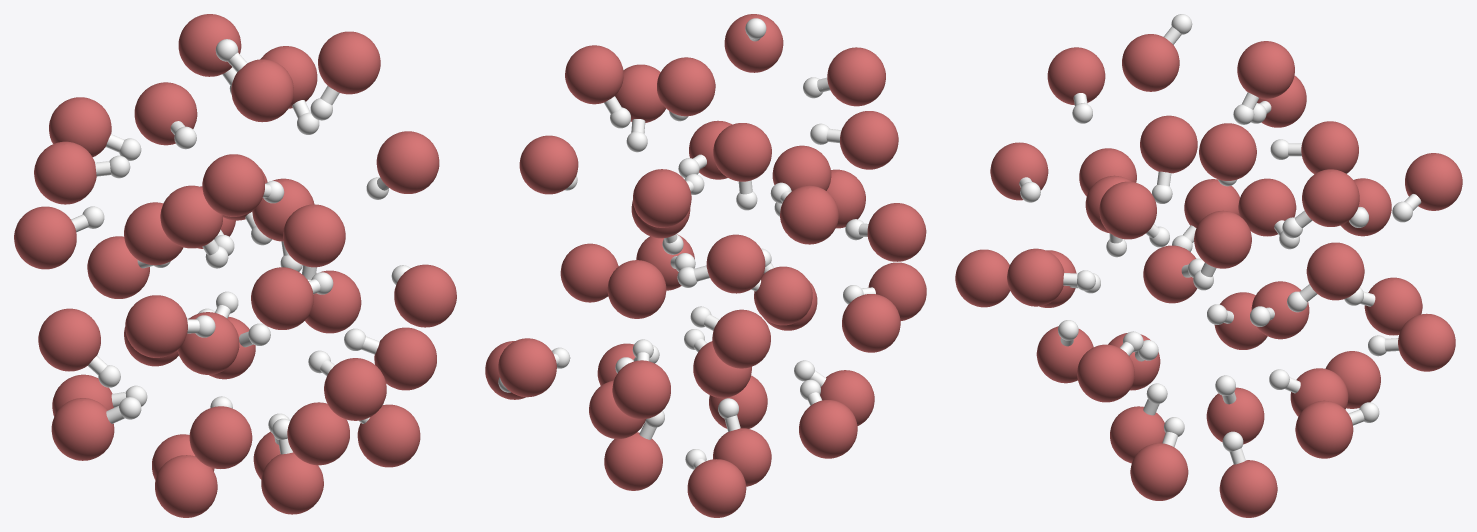
The model's file is brominelatt.glb.
The picture shows the model from 3 angles, left to right: view 1: azimuth 30°, elevation 25°; view 2: azimuth 150°, elevation 25°; view 3: azimuth 270°, elevation 25°; orthographic projection. The views are drawn at different scales.
Visible parts, largest first — view 1: Bromine_ball (×34); view 2: Bromine_ball (×35); view 3: Bromine_ball (×36).
Part boxes in pixels (left/top/right/bottom): Bromine_ball (×34): left=14, top=14, right=456, bottom=517; Bromine_ball (×35): left=485, top=14, right=926, bottom=517; Bromine_ball (×36): left=955, top=34, right=1462, bottom=517.
Size of the model in its own units: 2.67 by 3.39 by 3.4.
